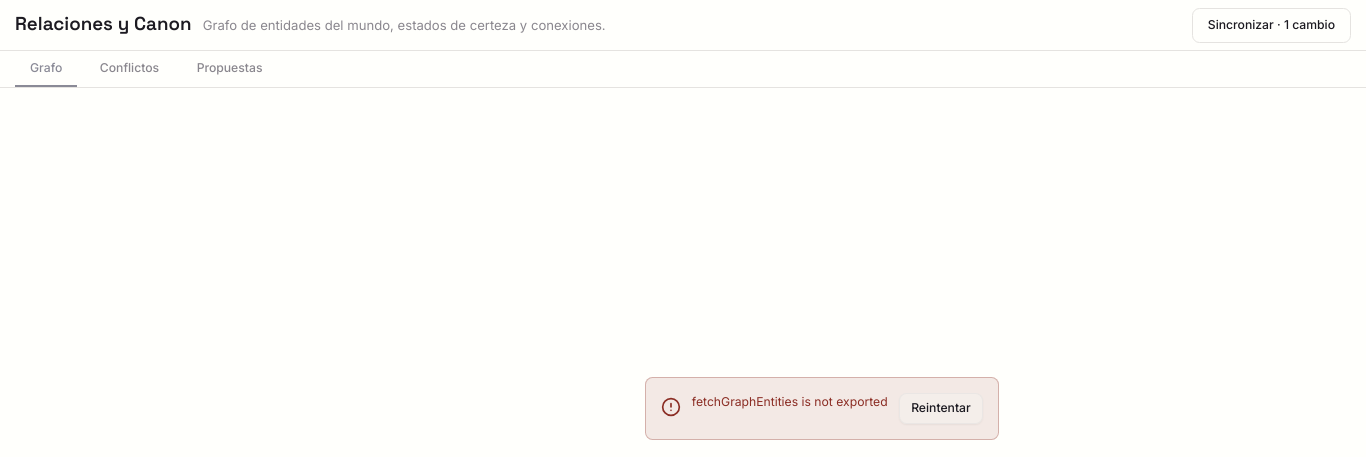
Test: RelacionesCanon › renders the sweep panel with the candidate count
The width and height of the screenshot is (1366, 457).
Step 1. Click the tab "Propuestas" → (230, 69), box [182,51,278,87]
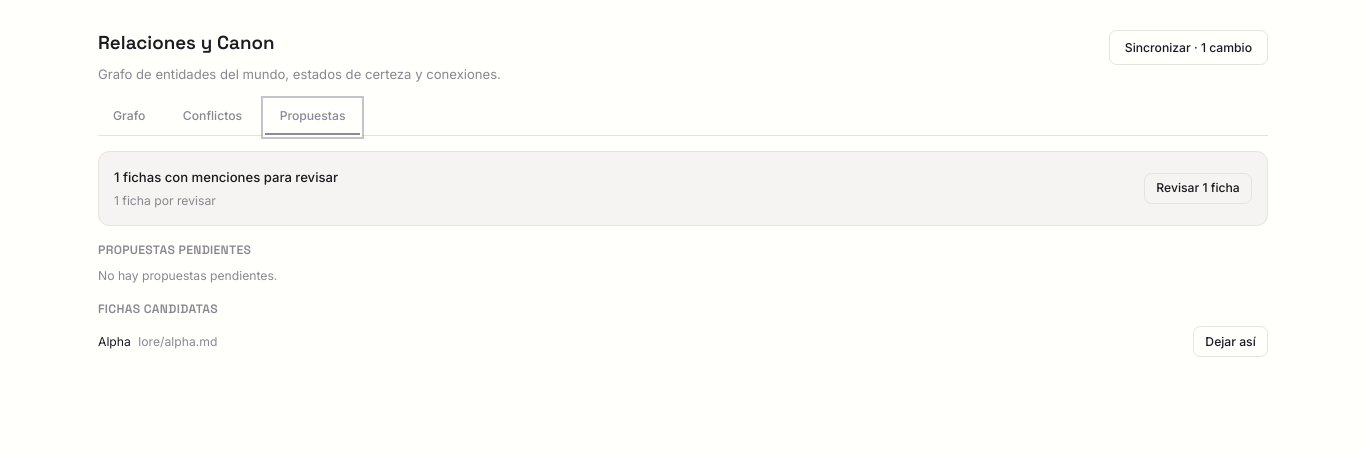
expect the element with test id "proposals-panel" is shown: met, box [98,151,1268,357]
expect the text with test id "candidate-count" reads "1 fichas con menciones para revisar": met, box [114,169,338,185]
